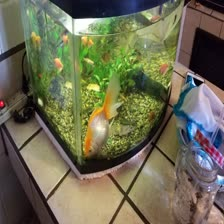Cuezo: (84, 71, 123, 156)
